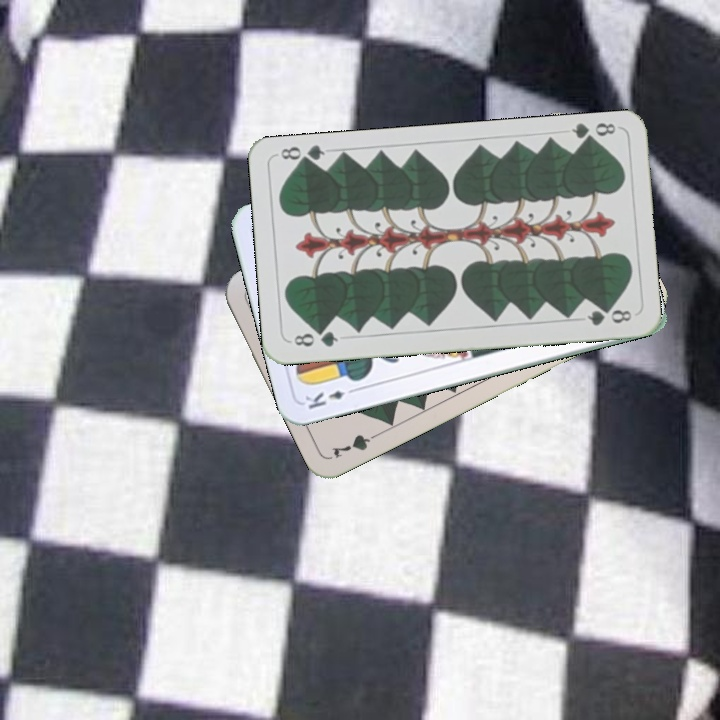EK: (300, 384, 360, 412)
G7: (327, 427, 385, 461)
G8: (568, 119, 618, 147), (290, 326, 341, 350)
